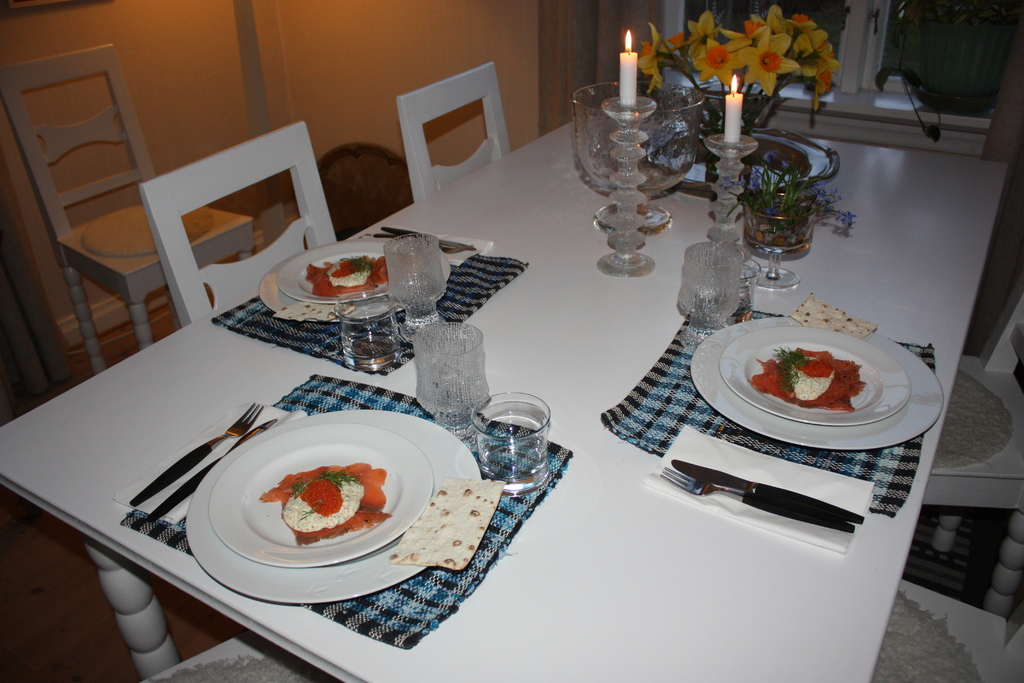plate: (257, 236, 429, 326)
